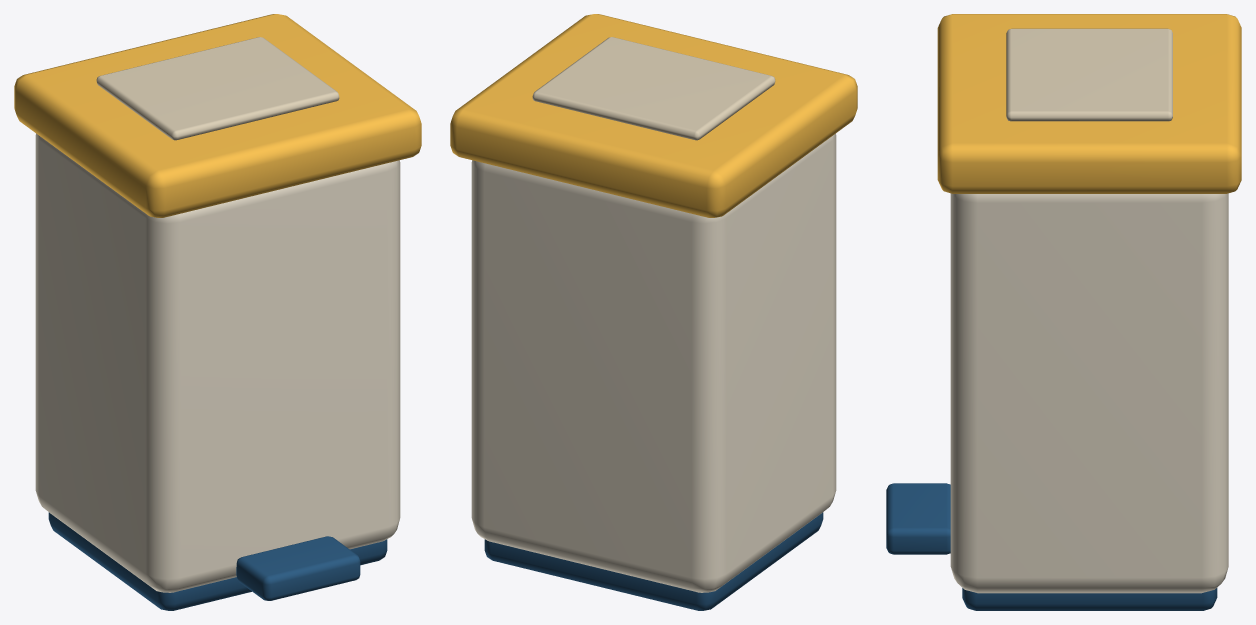
File: Restroom_Pedal_Bin.glb
3 views of the same model, side by side, from view 1: azimuth 30°, elevation 25°; view 2: azimuth 150°, elevation 25°; view 3: azimuth 270°, elevation 25° (orthographic). The views are drawn at different scales.
Parts seen in each view (by area): view 1: Restroom_Pedal_Bin__Visual, Bin_Lid_Hinge__Visual, Pedal_Hinge__Visual; view 2: Restroom_Pedal_Bin__Visual, Bin_Lid_Hinge__Visual; view 3: Restroom_Pedal_Bin__Visual, Bin_Lid_Hinge__Visual, Pedal_Hinge__Visual.
Boxes of the visible parts, x1=… form: Restroom_Pedal_Bin__Visual: x1=35, y1=133, x2=400, y2=610; Bin_Lid_Hinge__Visual: x1=14, y1=14, x2=421, y2=217; Pedal_Hinge__Visual: x1=236, y1=536, x2=360, y2=600; Restroom_Pedal_Bin__Visual: x1=471, y1=133, x2=836, y2=610; Bin_Lid_Hinge__Visual: x1=450, y1=14, x2=857, y2=217; Restroom_Pedal_Bin__Visual: x1=950, y1=193, x2=1228, y2=610; Bin_Lid_Hinge__Visual: x1=937, y1=14, x2=1241, y2=193; Pedal_Hinge__Visual: x1=886, y1=483, x2=950, y2=554.
Bounding box in the file's own units: 0.36 × 0.5805 × 0.3835.
Materials: 1 (1 with a texture image).
